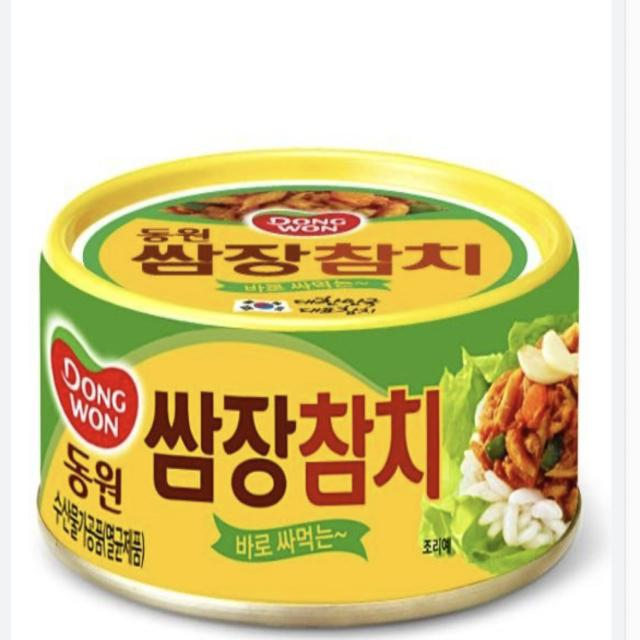recyclable: (23, 128, 600, 636)
